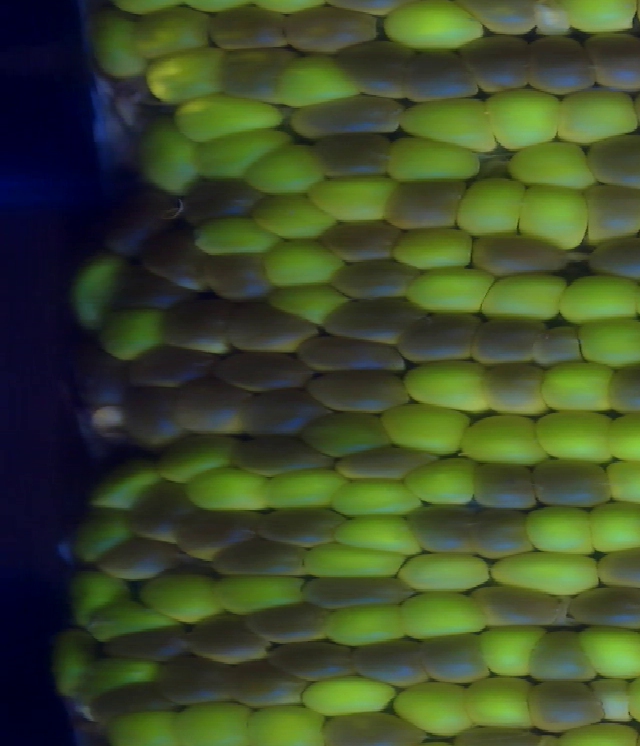fluorescent: (398, 97, 495, 152), (174, 94, 287, 140), (519, 182, 593, 251), (492, 550, 603, 594), (380, 1, 483, 48), (558, 83, 638, 140), (393, 681, 477, 735), (382, 404, 469, 456), (307, 175, 397, 225), (136, 122, 198, 193), (198, 128, 280, 181), (402, 361, 487, 412), (491, 87, 561, 148), (508, 141, 595, 190), (145, 46, 221, 102), (405, 266, 491, 315), (277, 52, 356, 105), (483, 272, 565, 323), (399, 591, 487, 638), (537, 407, 614, 460), (73, 252, 124, 332), (387, 136, 481, 179), (140, 573, 224, 621), (329, 515, 427, 556), (455, 177, 525, 234), (402, 552, 490, 597), (136, 7, 213, 58), (216, 574, 307, 617), (249, 195, 333, 241), (575, 623, 640, 682), (464, 417, 547, 463), (334, 477, 422, 520), (161, 433, 238, 482), (186, 467, 268, 513), (252, 147, 327, 197), (558, 276, 639, 322), (93, 597, 174, 643), (264, 237, 340, 286), (87, 17, 145, 81), (538, 363, 614, 411), (69, 567, 133, 624), (528, 505, 598, 557), (88, 458, 155, 512), (303, 677, 395, 716), (264, 470, 348, 512), (410, 458, 482, 507), (393, 228, 473, 272), (100, 307, 165, 361), (304, 542, 403, 577), (192, 216, 277, 256), (480, 626, 546, 677), (178, 699, 249, 746), (466, 679, 533, 727), (249, 704, 328, 744), (576, 318, 640, 367), (323, 607, 403, 644), (55, 628, 93, 697), (590, 502, 640, 554), (78, 511, 128, 562), (560, 1, 636, 34), (112, 709, 176, 746), (88, 659, 159, 691), (610, 413, 640, 466), (608, 461, 640, 499)
nonfluorescent: (288, 98, 405, 139), (235, 431, 334, 479), (325, 299, 423, 347), (109, 192, 172, 262), (299, 575, 421, 611), (155, 653, 241, 704), (341, 40, 415, 99), (298, 335, 407, 375), (230, 302, 317, 352), (311, 372, 415, 413), (288, 5, 387, 48), (173, 382, 250, 437), (162, 292, 232, 352), (471, 232, 566, 276), (527, 38, 596, 98), (145, 228, 209, 292), (219, 47, 288, 105), (206, 6, 292, 52), (336, 442, 432, 483), (473, 583, 562, 627), (470, 459, 542, 513), (407, 313, 478, 367), (89, 682, 175, 726), (530, 630, 597, 686), (129, 346, 214, 390), (384, 182, 463, 229), (189, 615, 268, 662), (181, 508, 258, 556), (530, 679, 605, 728), (205, 542, 304, 579), (423, 631, 492, 684), (408, 51, 478, 103), (534, 461, 613, 507), (260, 507, 348, 548), (123, 390, 182, 451), (243, 393, 326, 436), (183, 177, 262, 222), (96, 538, 182, 579), (273, 639, 359, 680), (353, 640, 428, 687), (467, 37, 531, 92), (235, 661, 304, 712), (584, 134, 640, 196), (251, 605, 340, 644), (485, 363, 549, 417), (408, 503, 477, 553), (207, 253, 275, 303), (314, 132, 389, 177), (218, 352, 309, 389), (328, 261, 418, 298), (135, 483, 187, 546), (473, 319, 542, 366), (586, 32, 640, 92), (326, 221, 406, 261), (468, 510, 535, 557), (105, 628, 194, 662), (586, 187, 640, 243), (568, 586, 640, 628), (590, 236, 640, 279), (537, 327, 586, 363), (608, 364, 640, 415), (601, 546, 640, 586)
